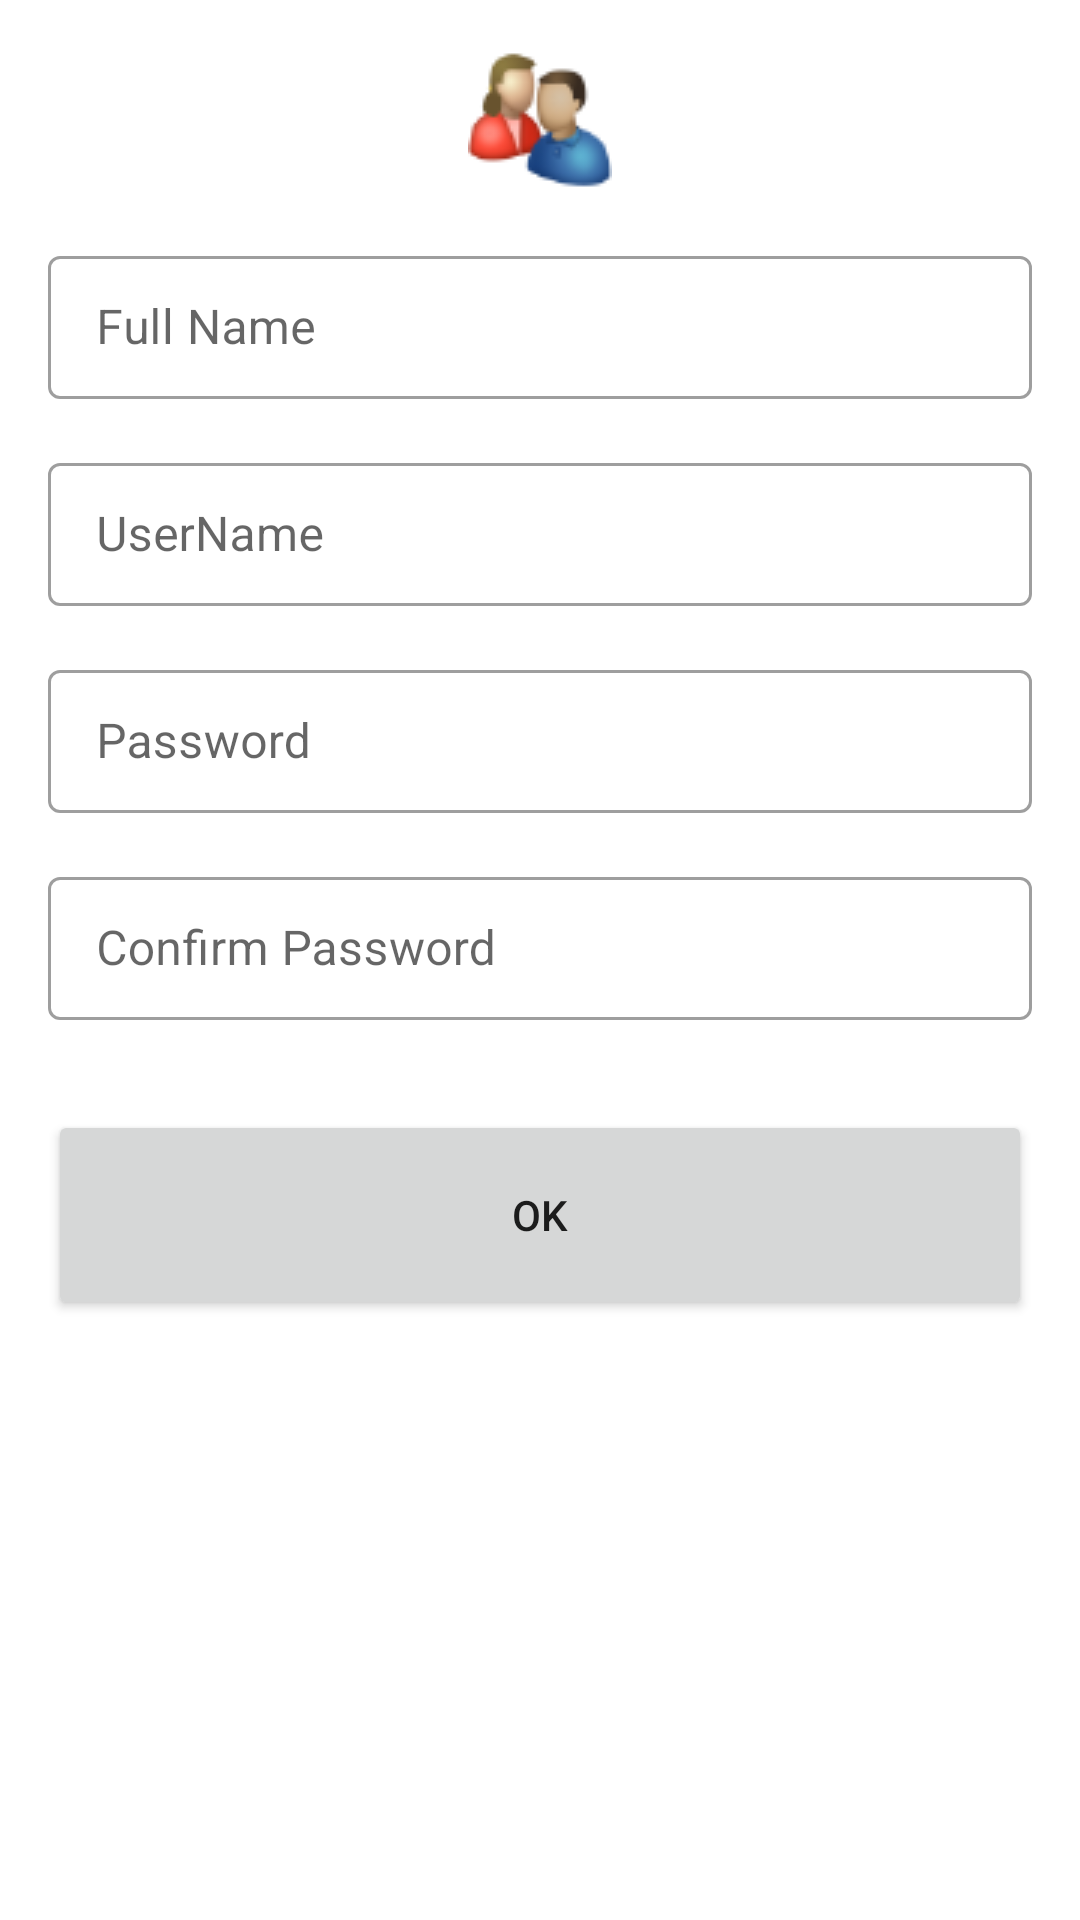

Screen size 1080*1920. Icon name, then its box in pixels as (x1, y1, x2, y2):
user login: (468, 53, 612, 187)
